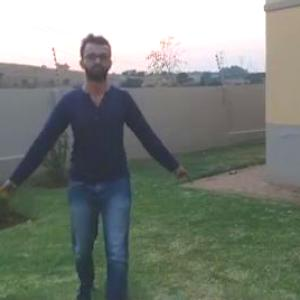land: (1, 28, 192, 280)
